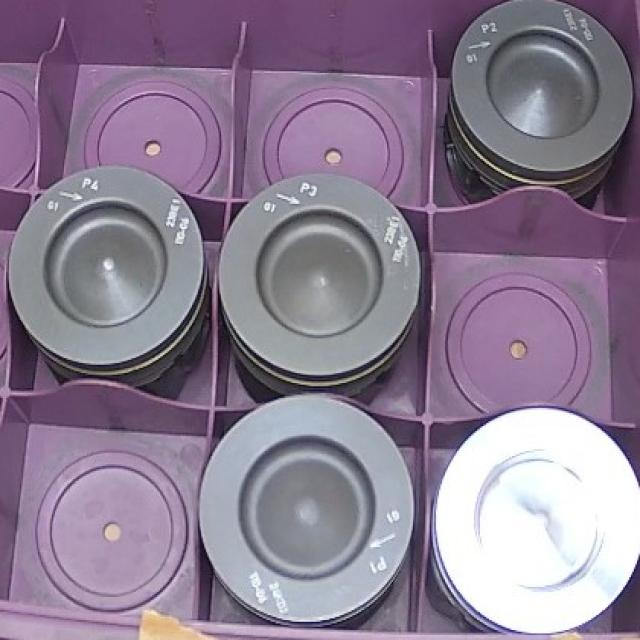P1: (206, 404, 418, 620), (438, 411, 640, 631)
P2: (461, 0, 627, 186)
P3: (228, 173, 428, 388)
P4: (13, 170, 216, 392)
